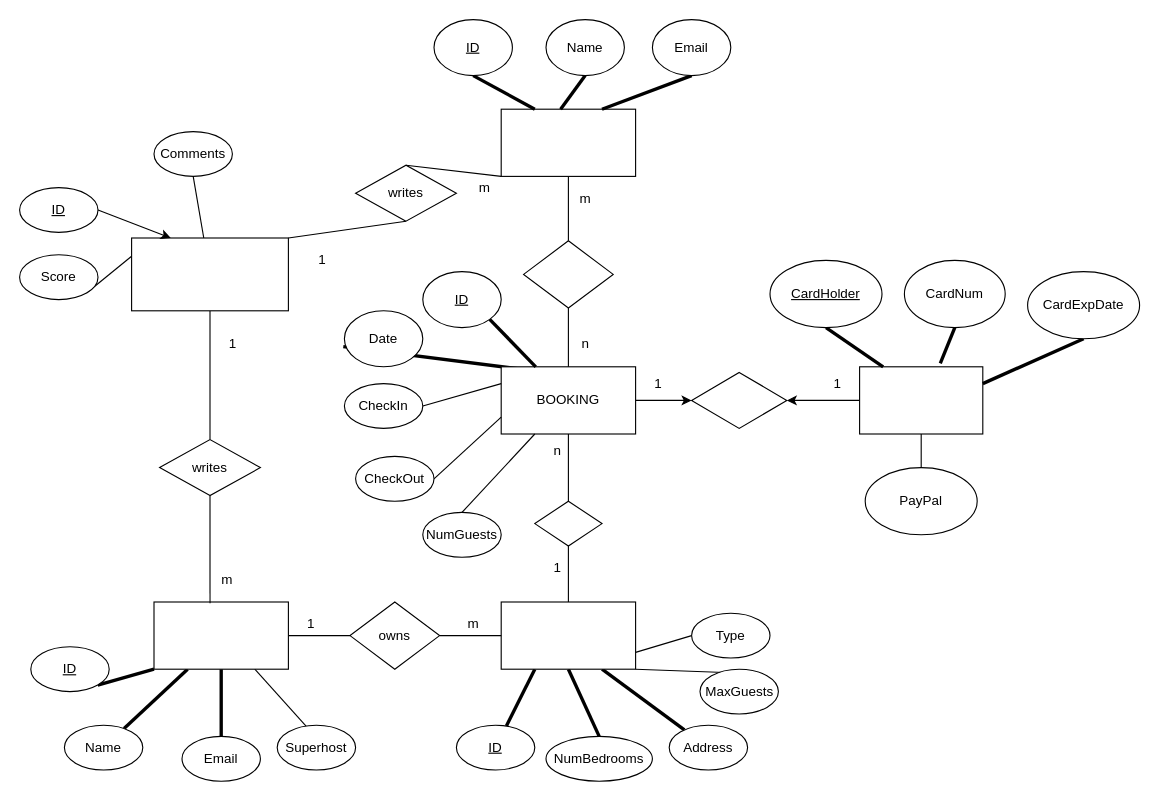
The diagram is 1159 pixels wide and 801 high, and some of its shapes have lost their labels. The shapes that lost their labels are listed below. From the top down, each one's centre as x and y in pixels, then its label:
At (x=568, y=142): "GUEST".
At (x=209, y=274): "REVIEW".
At (x=567, y=274): "reserves".
At (x=738, y=399): "has".
At (x=920, y=400): "PAYMENT".
At (x=568, y=523): "at".
At (x=220, y=635): "HOST".
At (x=568, y=635): "LISTING".
